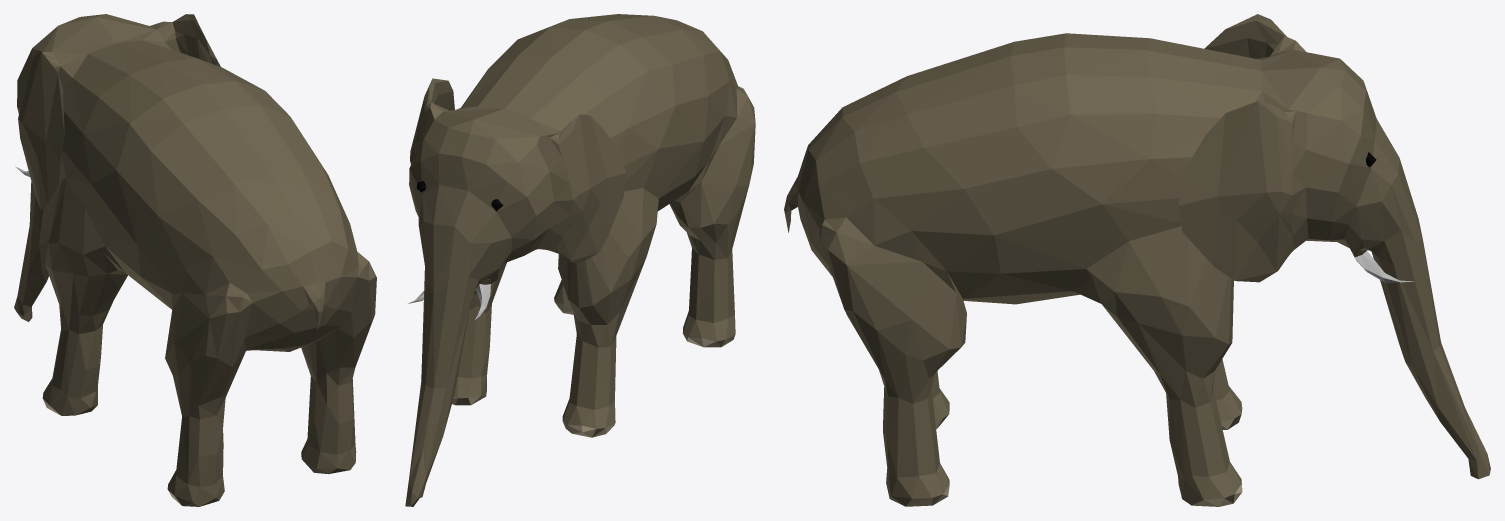
Rendered from Elephant.fbx.
3 views of the same model, side by side, from view 1: azimuth 30°, elevation 25°; view 2: azimuth 150°, elevation 25°; view 3: azimuth 270°, elevation 25° (orthographic). The views are drawn at different scales.
Visible parts, largest first — view 1: Body.001; view 2: Body.001, Foot, Biven; view 3: Body.001, Foot.
Boxes of the visible parts, left/top/right/bottom form: Body.001: left=14, top=14, right=376, bottom=506; Body.001: left=405, top=14, right=755, bottom=506; Foot: left=452, top=302, right=735, bottom=437; Biven: left=409, top=284, right=490, bottom=320; Body.001: left=784, top=14, right=1490, bottom=506; Foot: left=906, top=404, right=1242, bottom=506.
Bounding box in the file's own units: 380 × 660 × 990.
